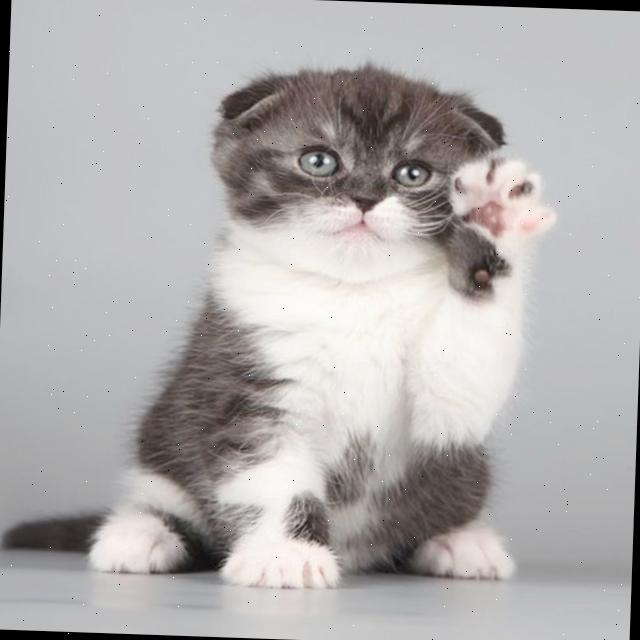cat: (88, 66, 557, 589)
